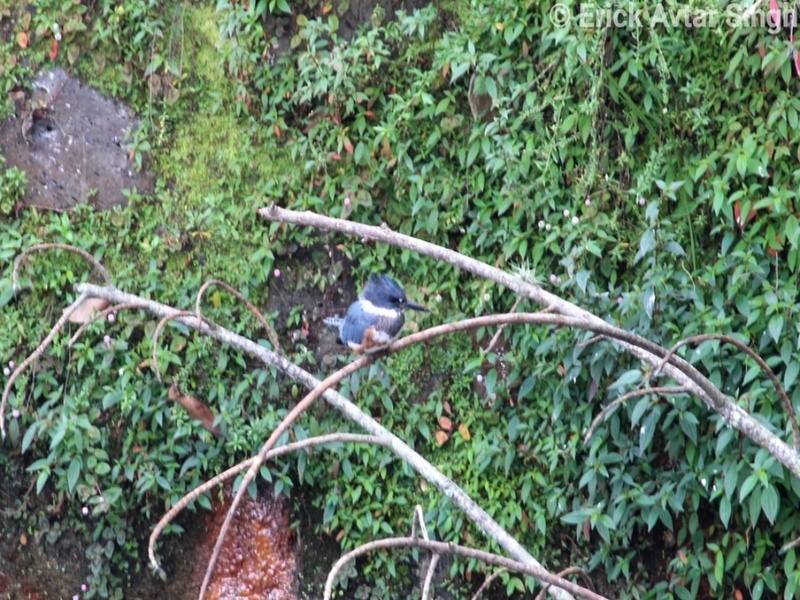kingfisher: (325, 272, 429, 359)
